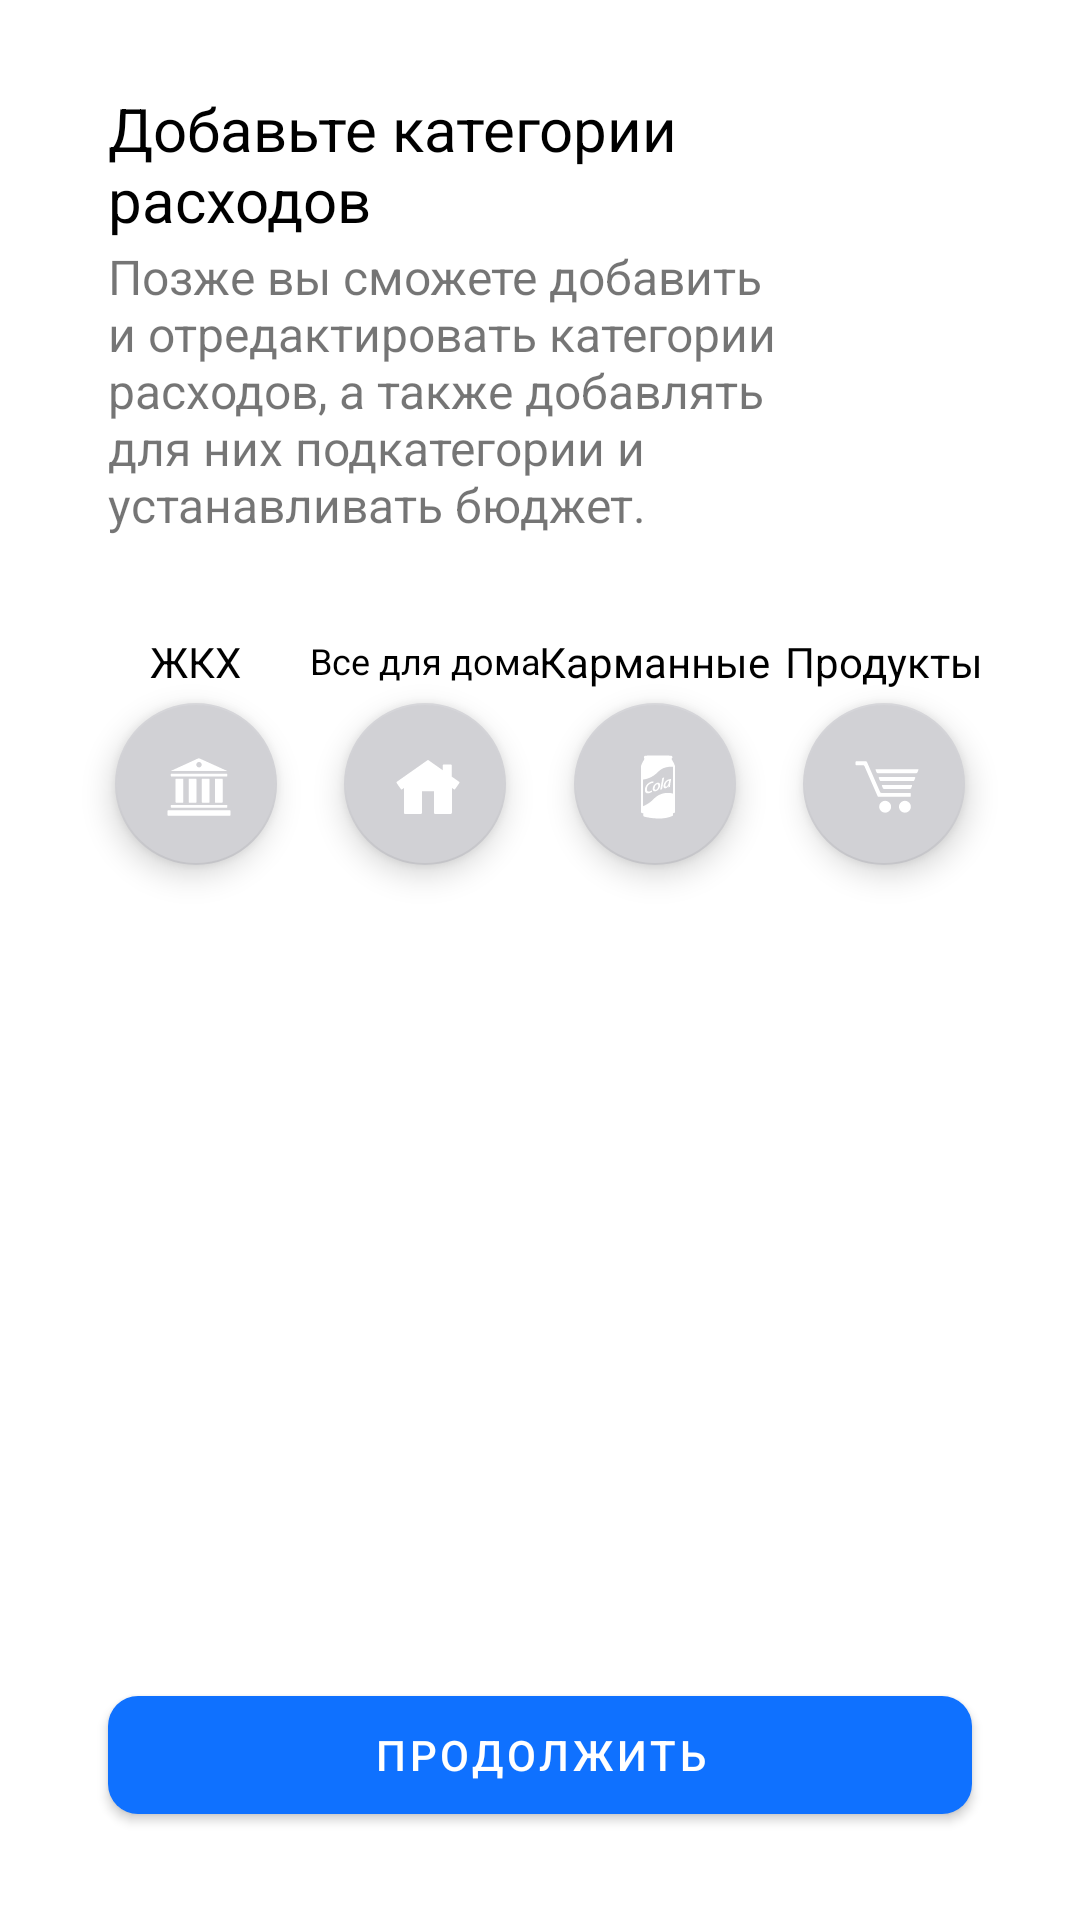

Where to tap for icons on this 1080px x 1920px app screen, as point (x, y):
category bank: point (196, 784)
category cart: point (884, 784)
category cola: point (655, 784)
